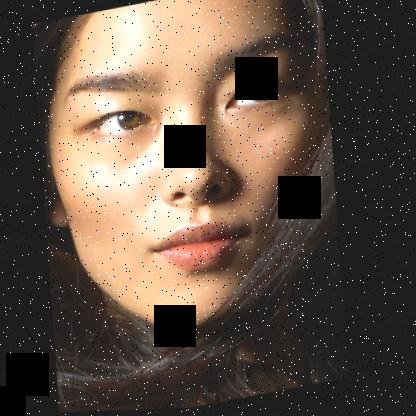Female: (9, 0, 369, 354)
